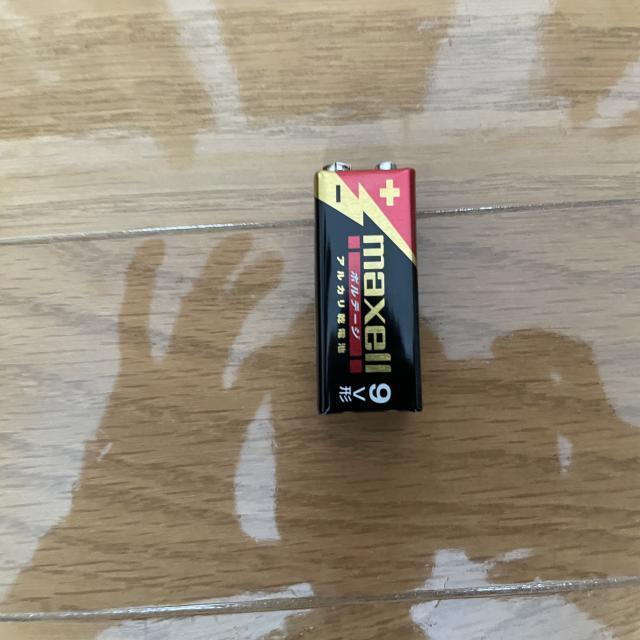9V: (314, 160, 421, 415)
